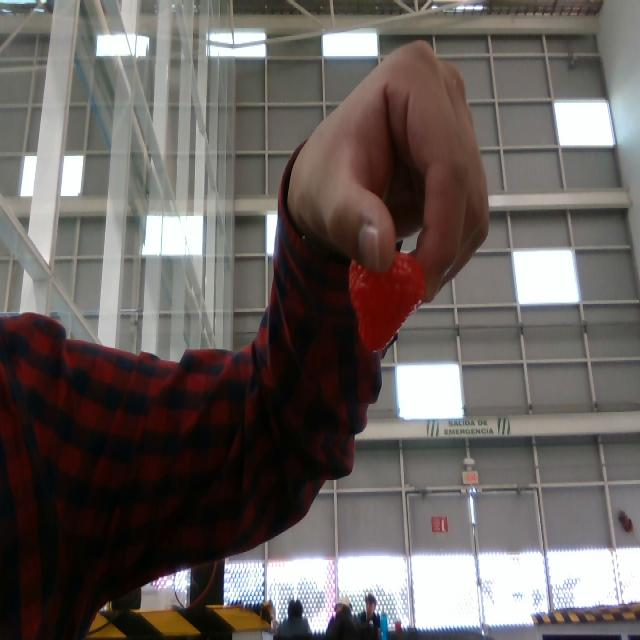chica_roja: (349, 251, 424, 356)
